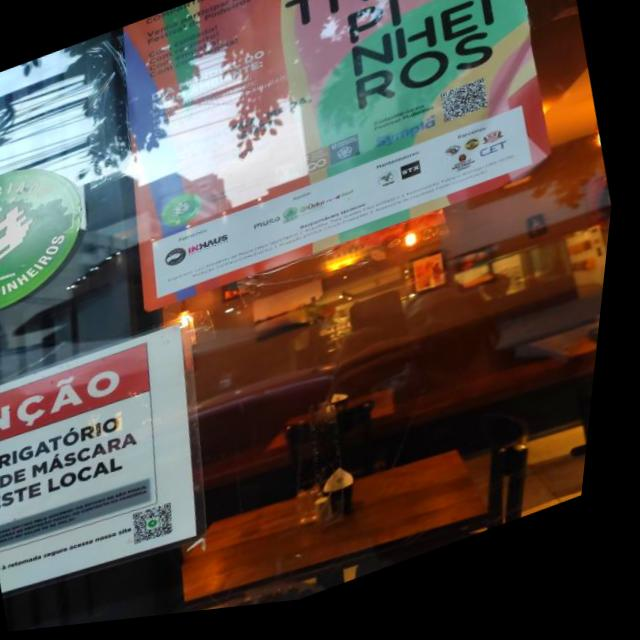qrcode: (441, 89, 495, 134), (140, 506, 190, 552)
